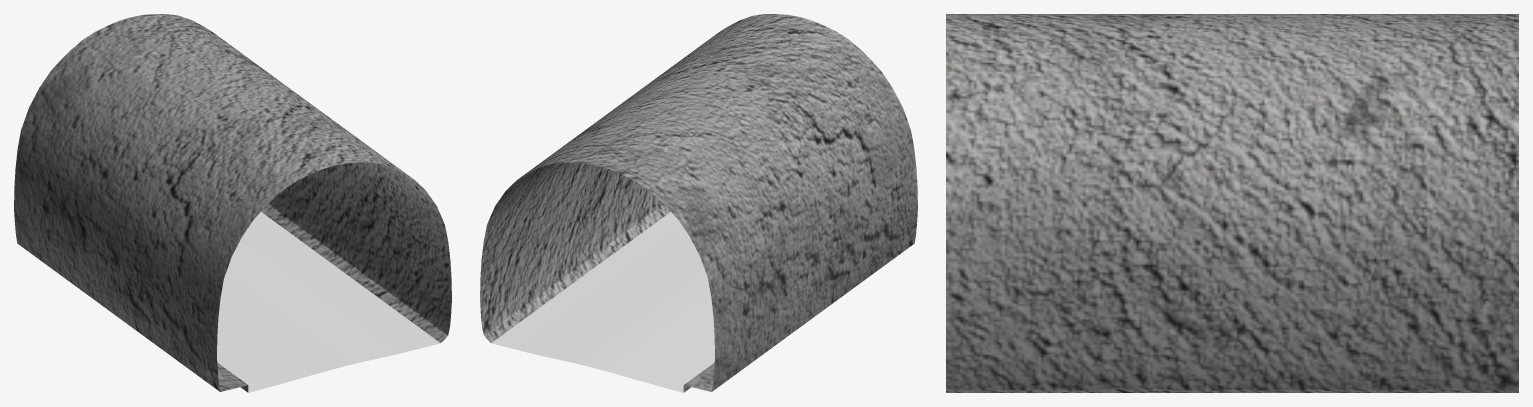
The model's file is Tunnel Addition.fbx.
3 renders of one model, left to right at view 1: azimuth 30°, elevation 25°; view 2: azimuth 150°, elevation 25°; view 3: azimuth 270°, elevation 25°, orthographic. The views are drawn at different scales.
Parts seen in each view (by area): view 1: Tunnel Addition; view 2: Tunnel Addition; view 3: Tunnel Addition.
Boxes of the visible parts, x1,y1,x2,y2 form: Tunnel Addition: (14,14,451,392); Tunnel Addition: (480,14,917,392); Tunnel Addition: (946,14,1518,392).
Size of the model in its own units: 835 by 701 by 1250.
